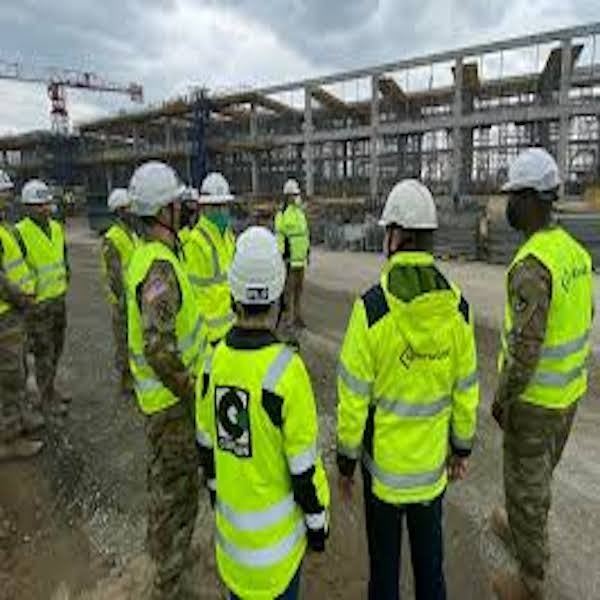helmet: (226, 228, 288, 303), (128, 160, 188, 215), (496, 146, 566, 190), (382, 178, 441, 228), (21, 179, 57, 206)
vest: (201, 341, 321, 580), (362, 256, 451, 503), (499, 232, 595, 410), (123, 240, 197, 403)
